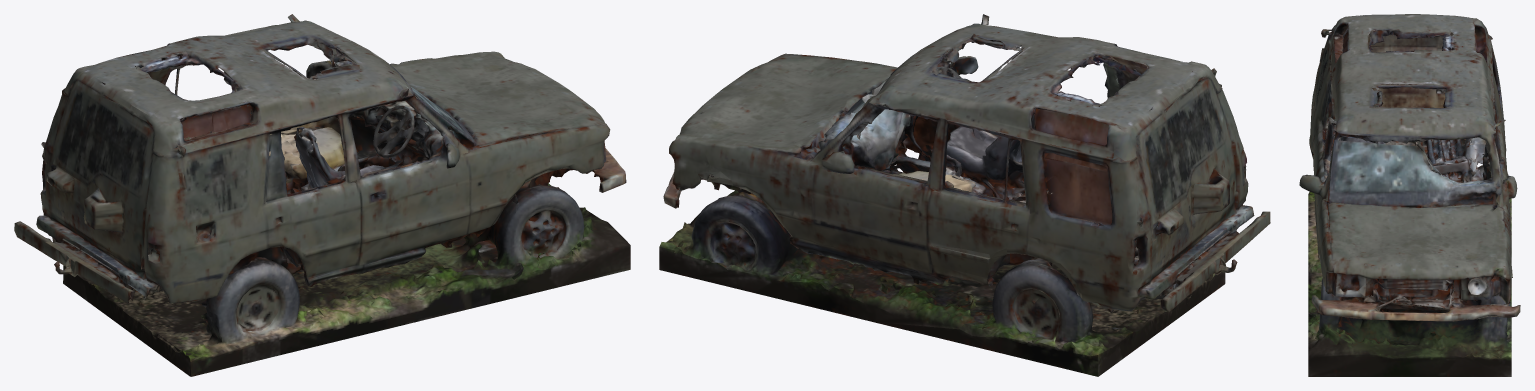
The model's file is Jeep.fbx.
The picture shows the model from 3 angles, left to right: view 1: azimuth 30°, elevation 25°; view 2: azimuth 150°, elevation 25°; view 3: azimuth 270°, elevation 25°; orthographic projection. The views are drawn at different scales.
Visible parts, largest first — view 1: V3_Jeep; view 2: V3_Jeep; view 3: V3_Jeep.
Part boxes in pixels (<box>): V3_Jeep: <box>14,14,630,376</box>; V3_Jeep: <box>659,14,1270,376</box>; V3_Jeep: <box>1299,14,1520,376</box>.
Size of the model in its own units: 471 by 205 by 214.
